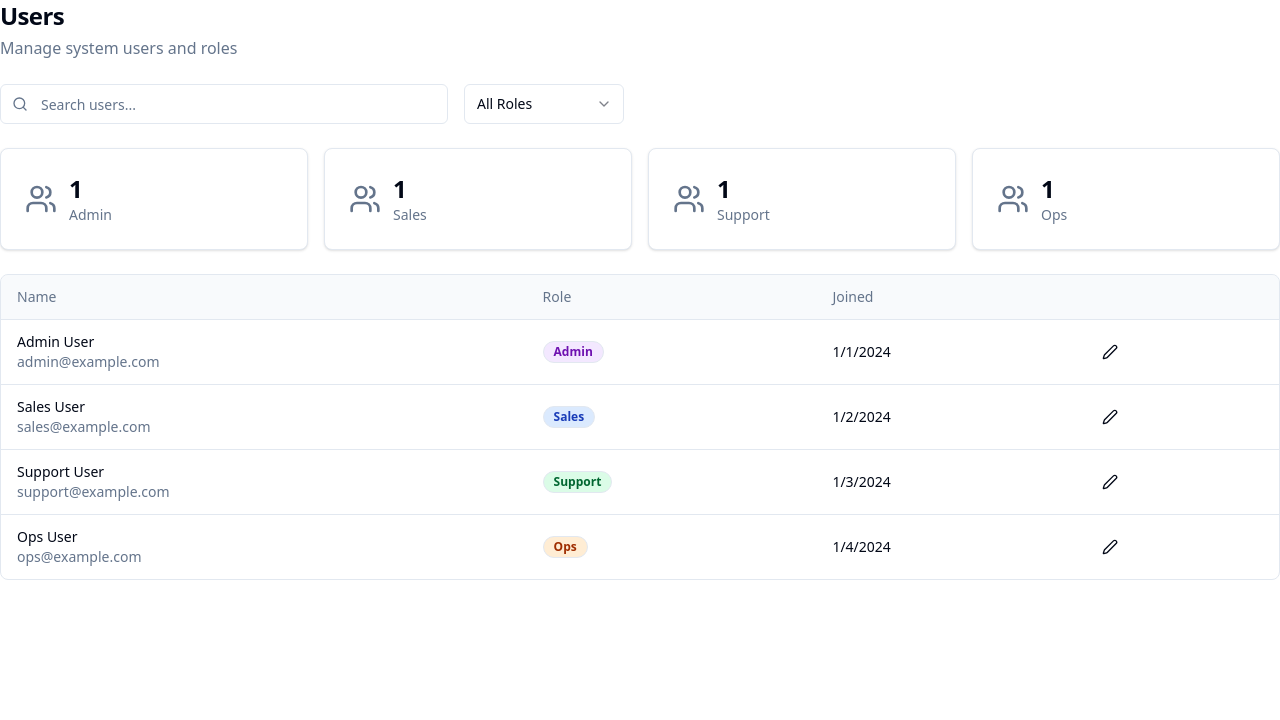
Scenario: UsersPage › should show edit dialog when clicking edit button
What coordinates should you click on to do the following:
click the button without text in the row of "Admin User"
I would click on:
 (1110, 352)
Its box is [1090, 334, 1130, 370].
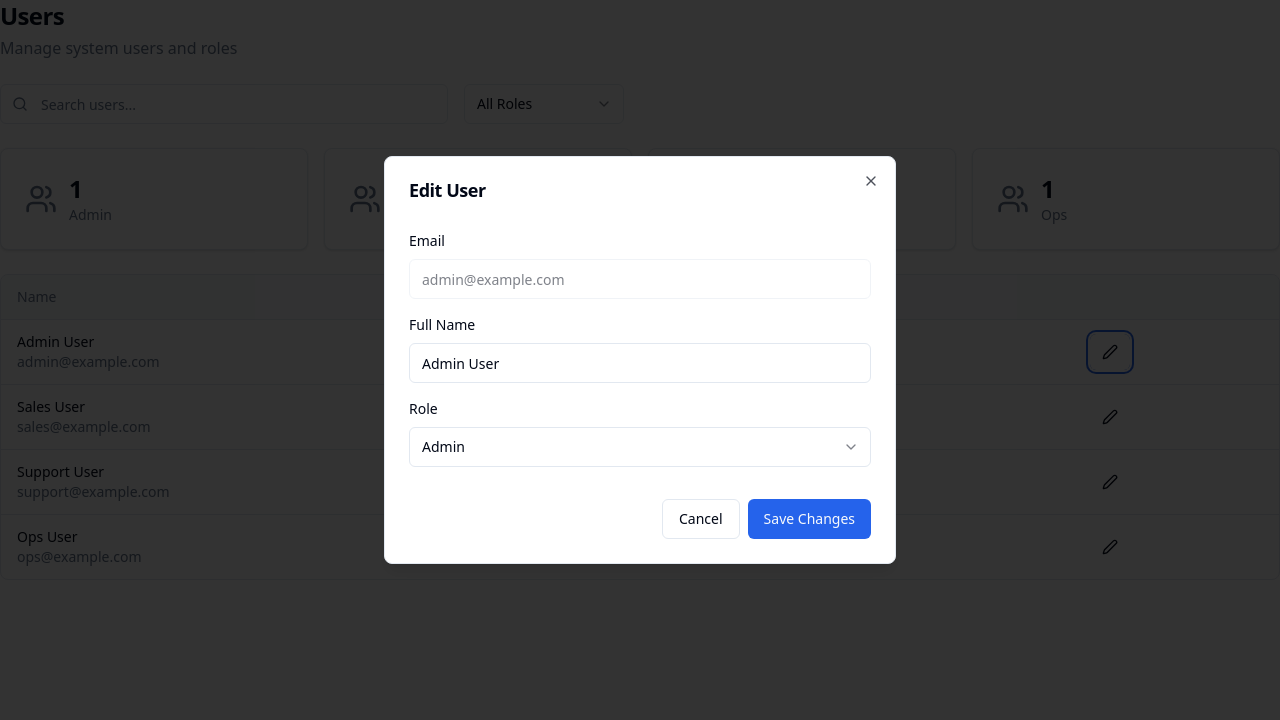
Check: the heading "Edit User" is shown, box [409, 178, 486, 202]
